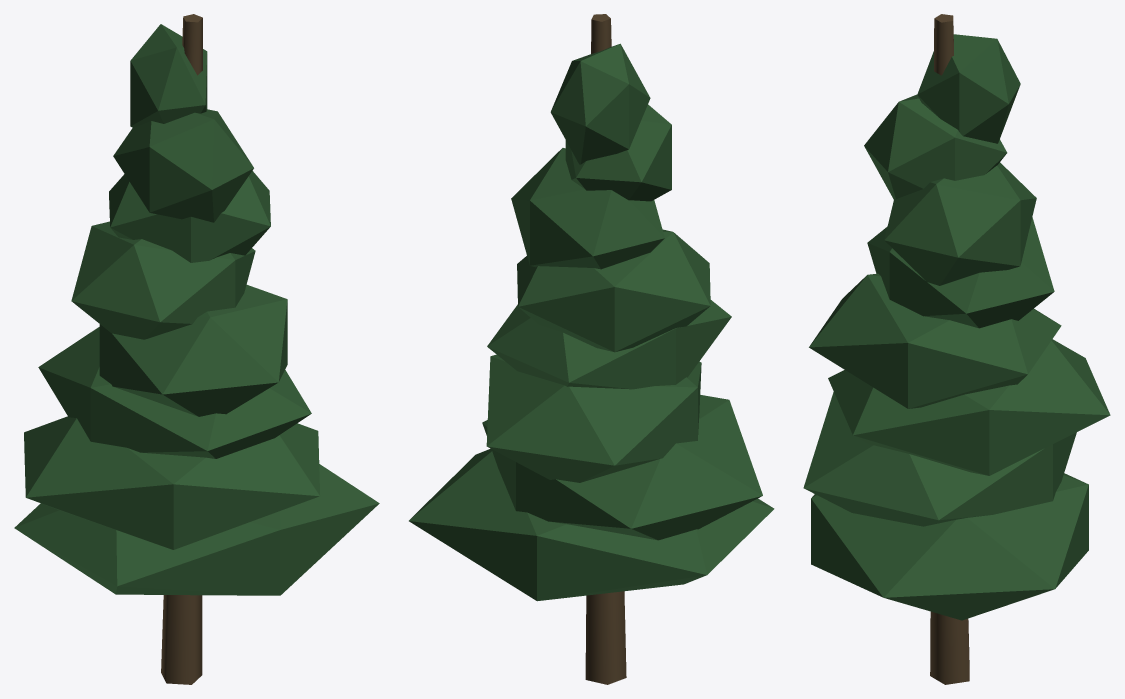
3 views of the same model, side by side, from view 1: azimuth 30°, elevation 25°; view 2: azimuth 150°, elevation 25°; view 3: azimuth 270°, elevation 25° (orthographic).
Parts seen in each view (by area): view 1: pine-leaf; view 2: pine-leaf; view 3: pine-leaf.
Part boxes in pixels (x1=…): pine-leaf: x1=14, y1=14, x2=379, y2=684; pine-leaf: x1=409, y1=14, x2=774, y2=684; pine-leaf: x1=803, y1=14, x2=1110, y2=684.
Size of the model in its own units: 5.11 by 10.01 by 4.21.
